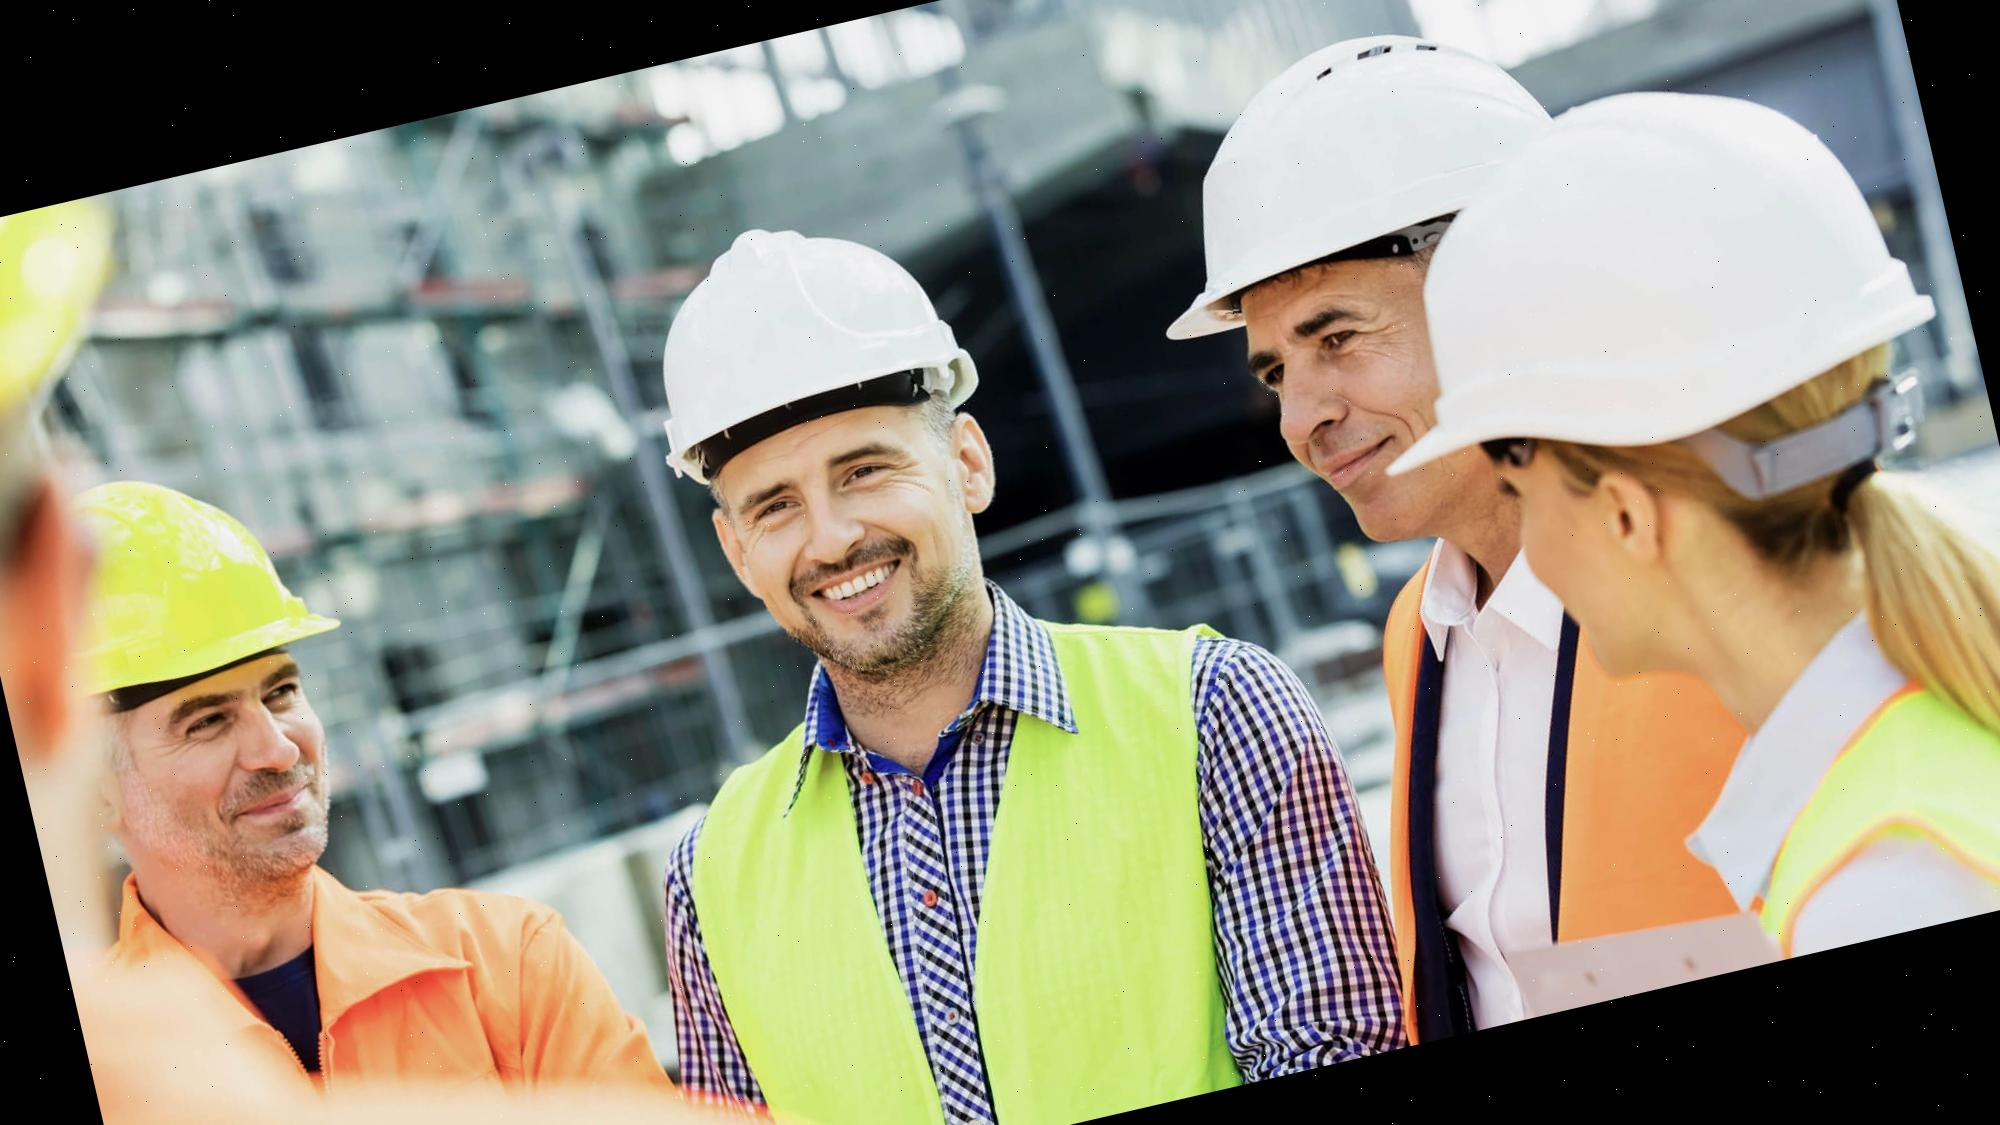helmet: (1312, 29, 1948, 493), (1082, 0, 1589, 343), (614, 183, 989, 479), (0, 433, 354, 728)
wear: (620, 593, 1405, 1125), (66, 841, 681, 1125), (1712, 609, 2000, 956)
